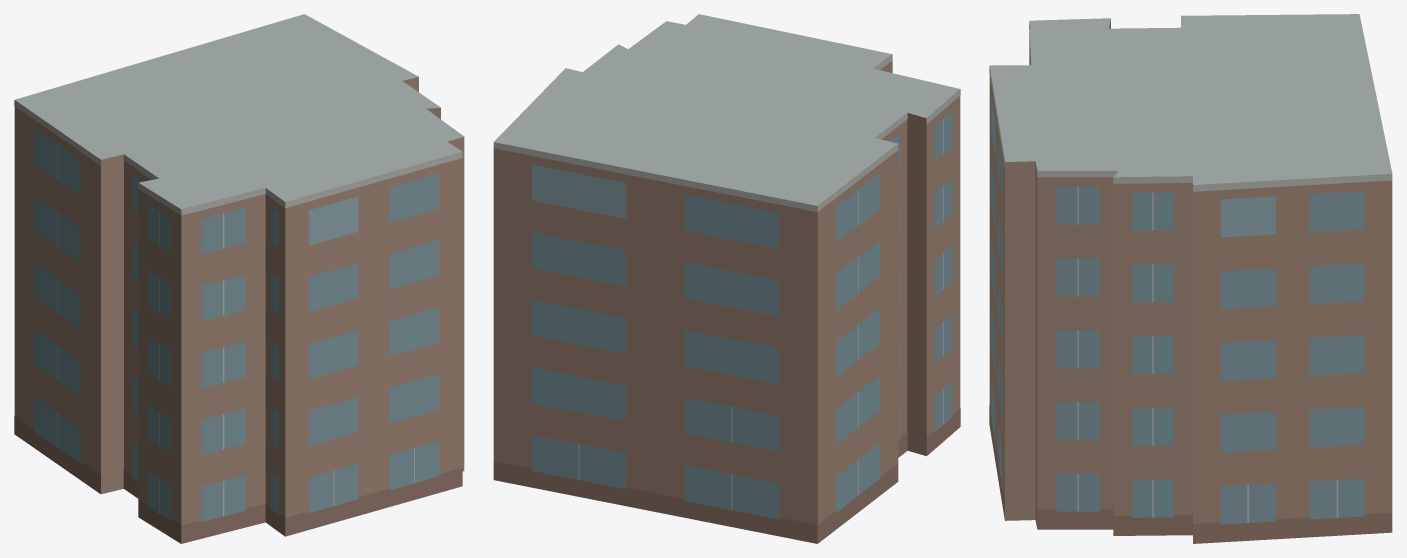
Rendered from survey-upis-32730164.glb.
3 views of the same model, side by side, from view 1: azimuth 30°, elevation 25°; view 2: azimuth 150°, elevation 25°; view 3: azimuth 270°, elevation 25° (orthographic). The views are drawn at different scales.
Parts seen in each view (by area): view 1: survey-upis-32730164.tmp; view 2: survey-upis-32730164.tmp; view 3: survey-upis-32730164.tmp.
Boxes of the visible parts, box(x1,y1,x2,y2) form: survey-upis-32730164.tmp: box(14, 14, 464, 543); survey-upis-32730164.tmp: box(493, 14, 960, 543); survey-upis-32730164.tmp: box(989, 14, 1392, 543).
Size of the model in its own units: 13.51 by 13.2 by 13.45.
